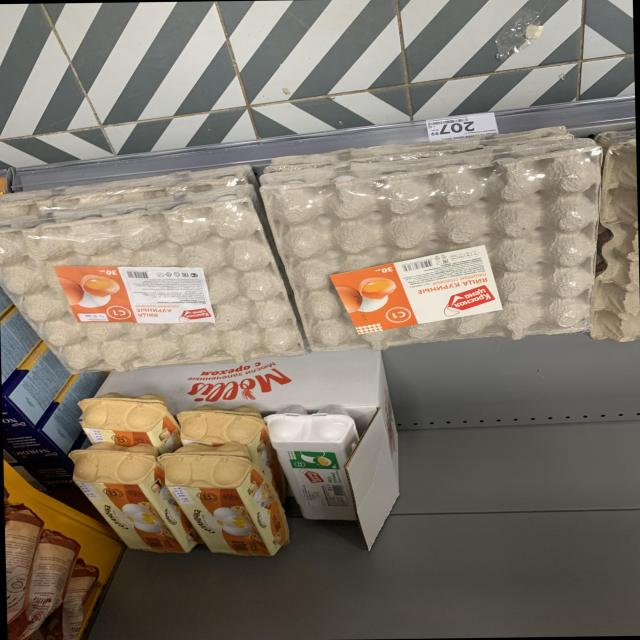organic waste: (165, 443, 288, 561), (74, 445, 190, 555), (267, 404, 359, 523), (83, 396, 173, 446), (180, 405, 262, 446)
